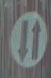Two way: (9, 4, 46, 66)
